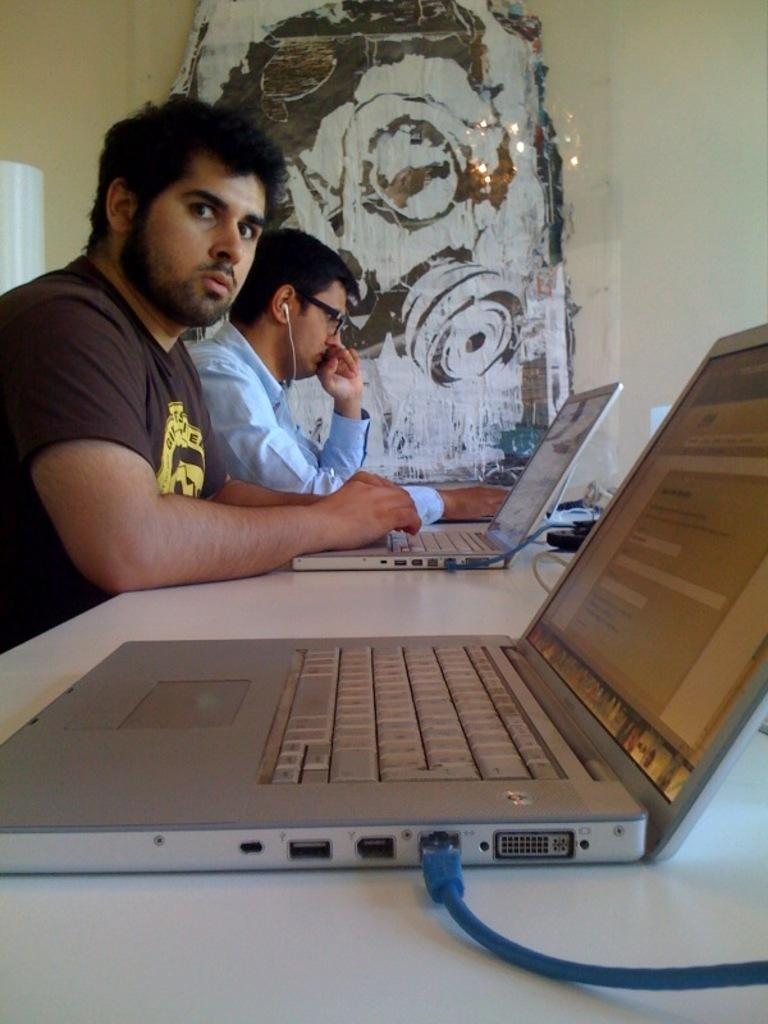Laptop: (41, 379, 742, 927), (291, 385, 621, 566)
